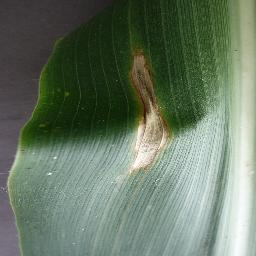Corn_Blight: (115, 42, 176, 178)
